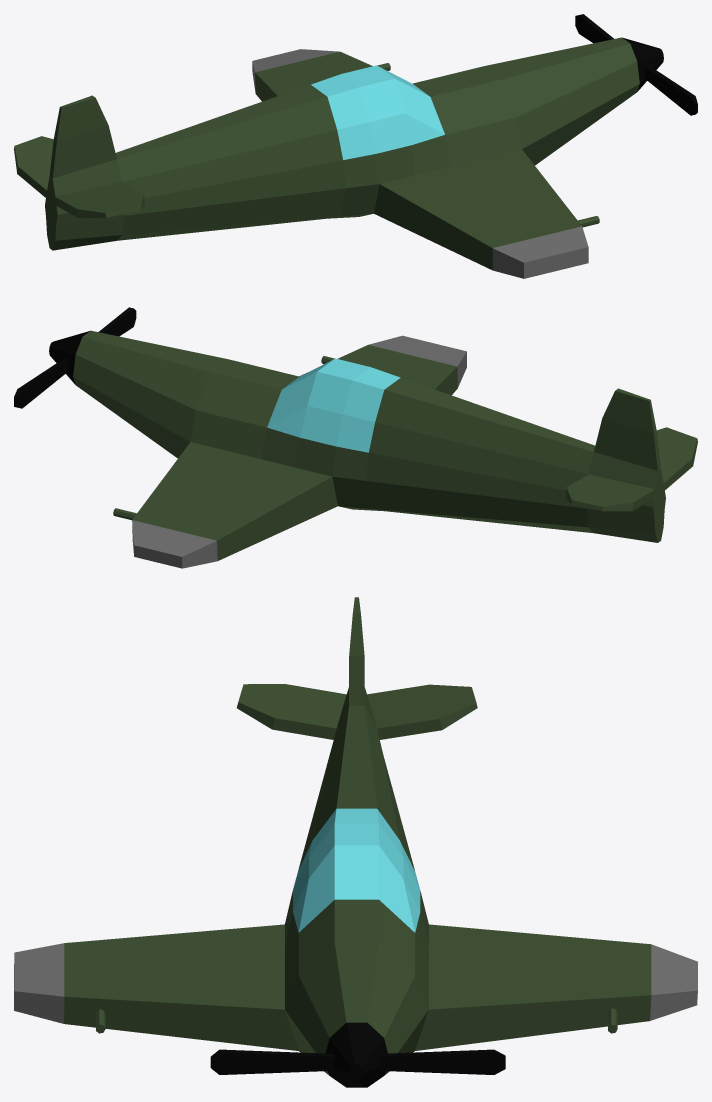
File: Spitfire.glb
The picture shows the model from 3 angles, top to bottom: view 1: azimuth 30°, elevation 25°; view 2: azimuth 150°, elevation 25°; view 3: azimuth 270°, elevation 25°; orthographic projection. The views are drawn at different scales.
Parts seen in each view (by area): view 1: PlaneBody, Propeller; view 2: PlaneBody, Propeller; view 3: PlaneBody, Propeller.
Boxes of the visible parts, x1,y1,x2,y2 form: PlaneBody: (14, 37, 663, 278); Propeller: (575, 14, 697, 115); PlaneBody: (49, 330, 697, 568); Propeller: (14, 307, 136, 408); PlaneBody: (14, 597, 697, 1087); Propeller: (210, 1049, 505, 1074).
Size of the model in its own units: 8.61 by 2.36 by 6.78.
